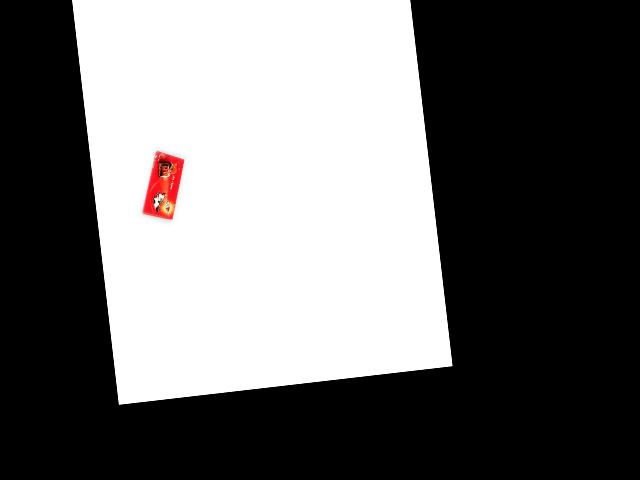chocolate: (135, 147, 191, 221)
